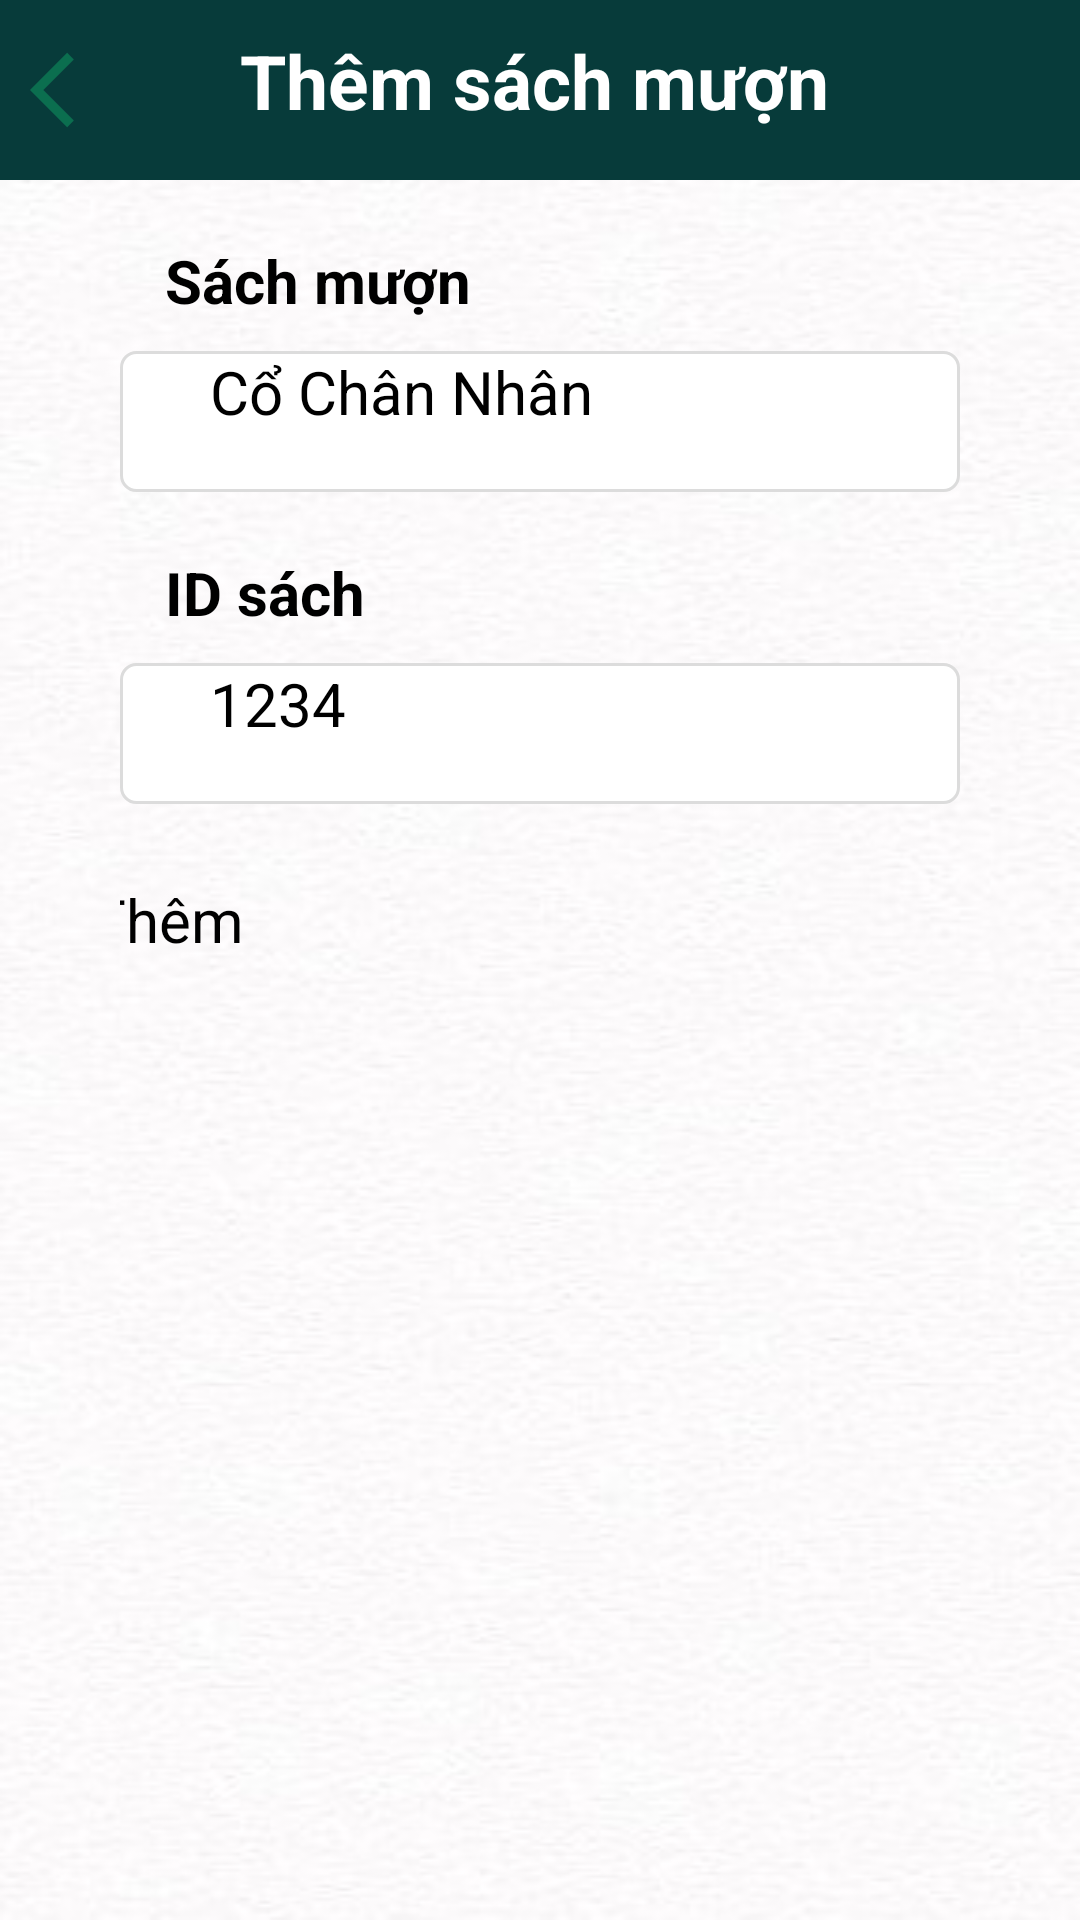

Named icons in this screenshot (1080 x 1920) and their centers, [x,y]:
arrow back: [52,90]
